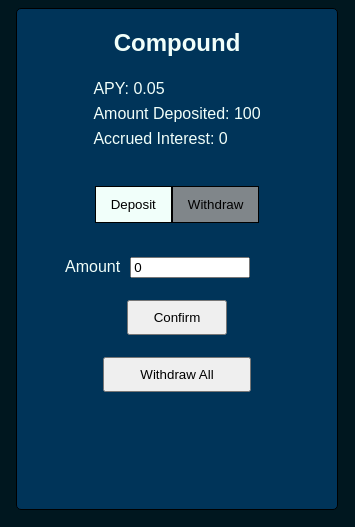
Test case: transaction form › withrdraws USD from correct service
The image size is (355, 527).
Replace the text in the number field labelled "Amount" with "50" at (190, 267), box [130,257,250,278]
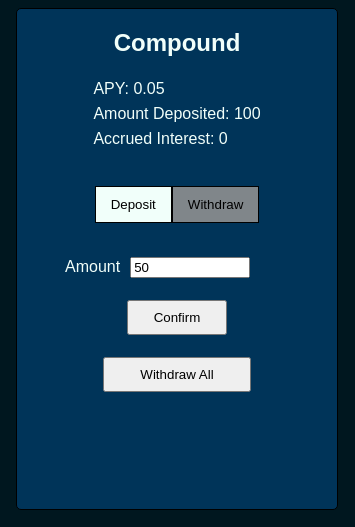
Click the button "Withdraw" at (216, 204), box [172,186,259,223]
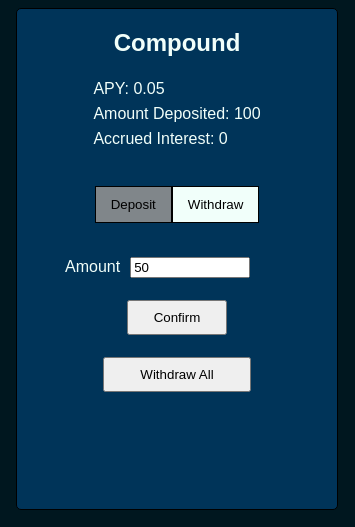
Click the button "Confirm" at (177, 318), box [127,300,227,335]
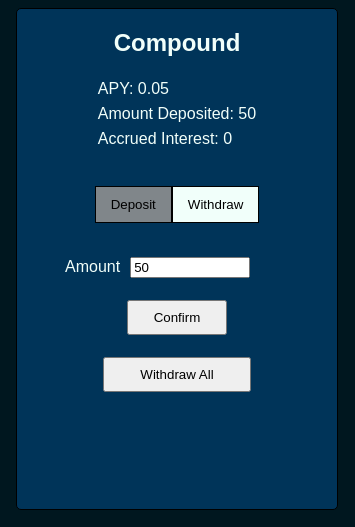
Check: the text with test id "amountDeposited" reads "Amount Deposited: 50", box [98,105,256,122]
